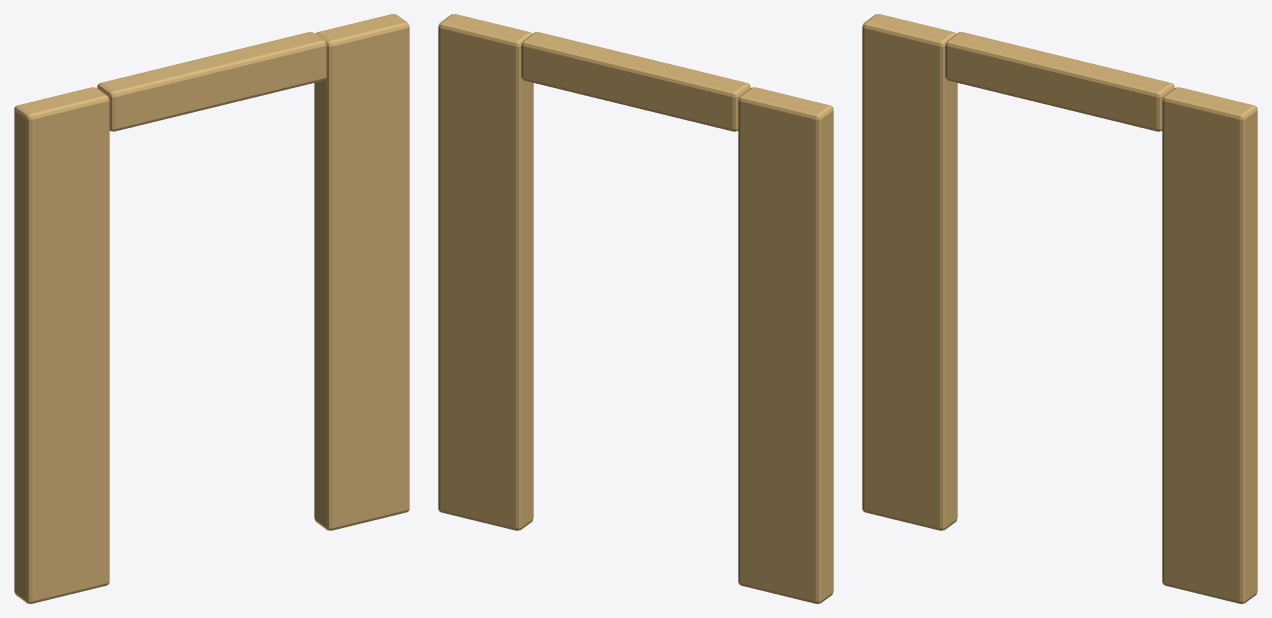
The model's file is wall_passage_2m__finish.glb.
The picture shows the model from 3 angles, left to right: view 1: azimuth 30°, elevation 25°; view 2: azimuth 150°, elevation 25°; view 3: azimuth 330°, elevation 25°; orthographic projection.
Parts seen in each view (by area): view 1: wall_passage_2m__finish__mesh_00; view 2: wall_passage_2m__finish__mesh_00; view 3: wall_passage_2m__finish__mesh_00.
Part boxes in pixels (box(x1,y1,x2,y2)): wall_passage_2m__finish__mesh_00: box(14, 14, 409, 603); wall_passage_2m__finish__mesh_00: box(438, 14, 833, 603); wall_passage_2m__finish__mesh_00: box(862, 14, 1257, 603).
Size of the model in its own units: 1.8 by 2.21 by 0.13.
